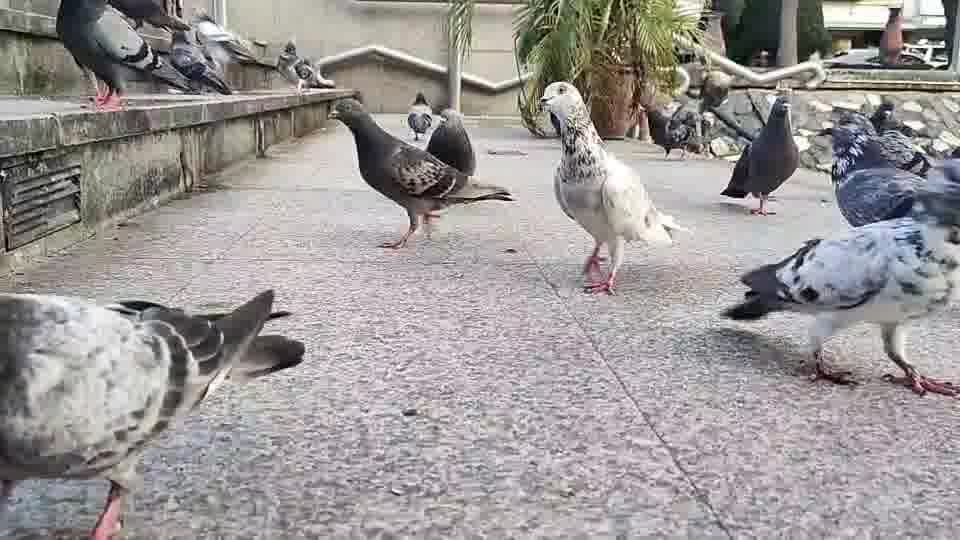Pigeon: (0, 286, 305, 538), (720, 213, 958, 398), (537, 80, 691, 296), (326, 97, 516, 250), (816, 109, 959, 238), (54, 0, 198, 112), (719, 95, 800, 215), (424, 107, 476, 188), (274, 39, 336, 94), (405, 91, 432, 140)
